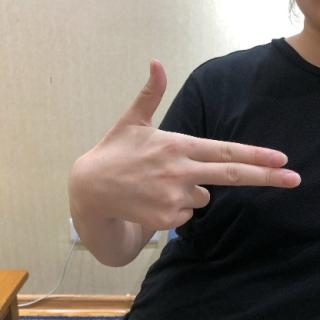GHAYN: (61, 56, 303, 233)
